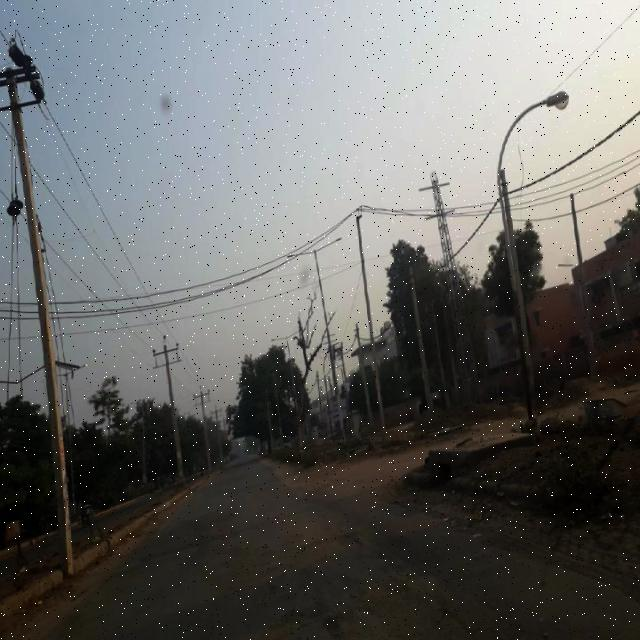D40: (295, 523, 371, 561), (265, 601, 340, 639), (252, 565, 320, 600)
